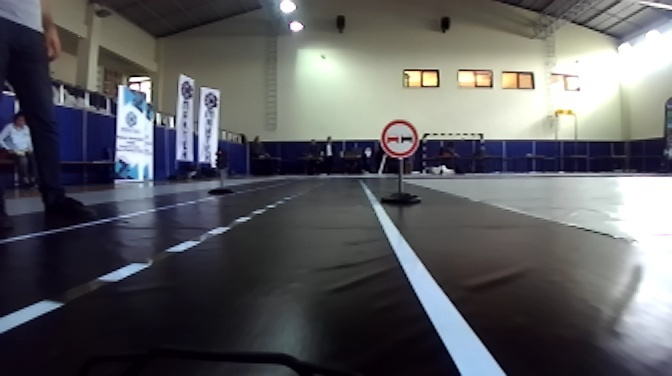sollama_yasak: (379, 121, 417, 159)
